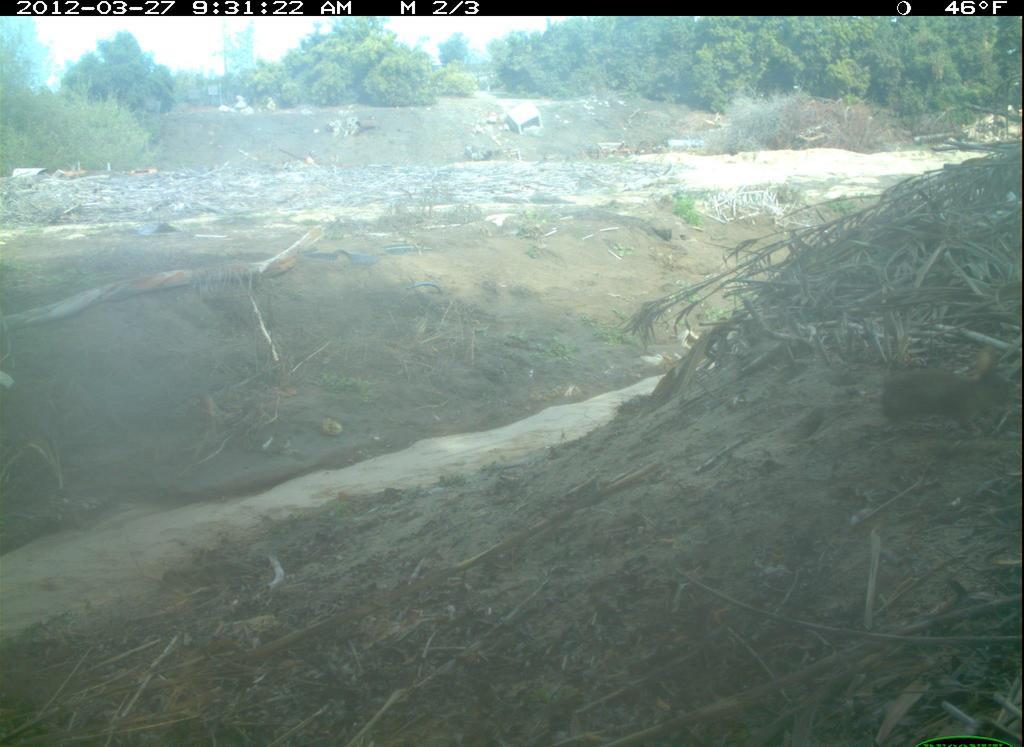rabbit: (874, 330, 999, 450)
